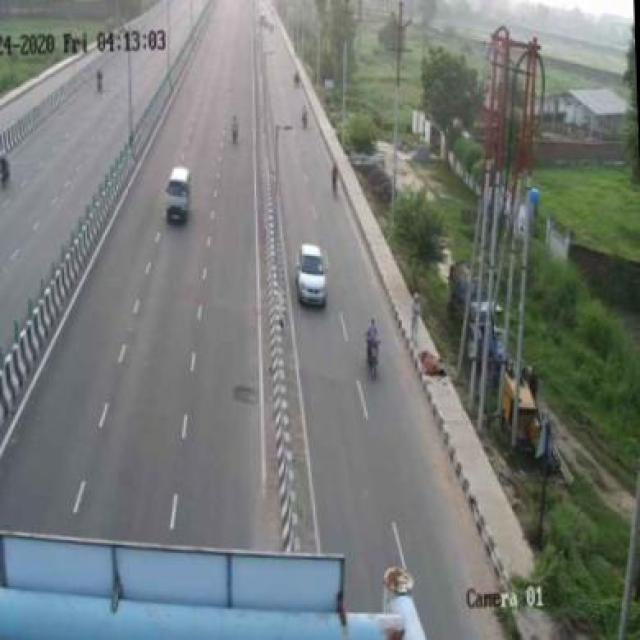car: (292, 238, 338, 313), (159, 151, 197, 226)
